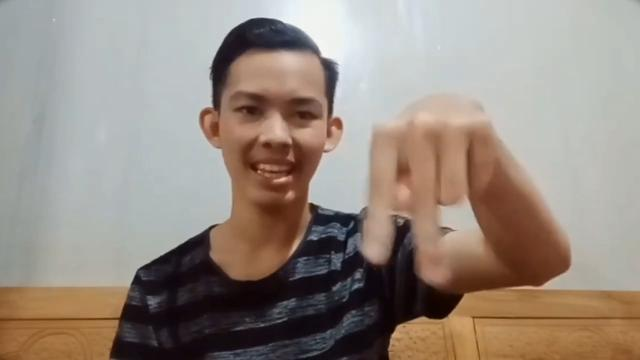Q: (359, 90, 505, 296)
